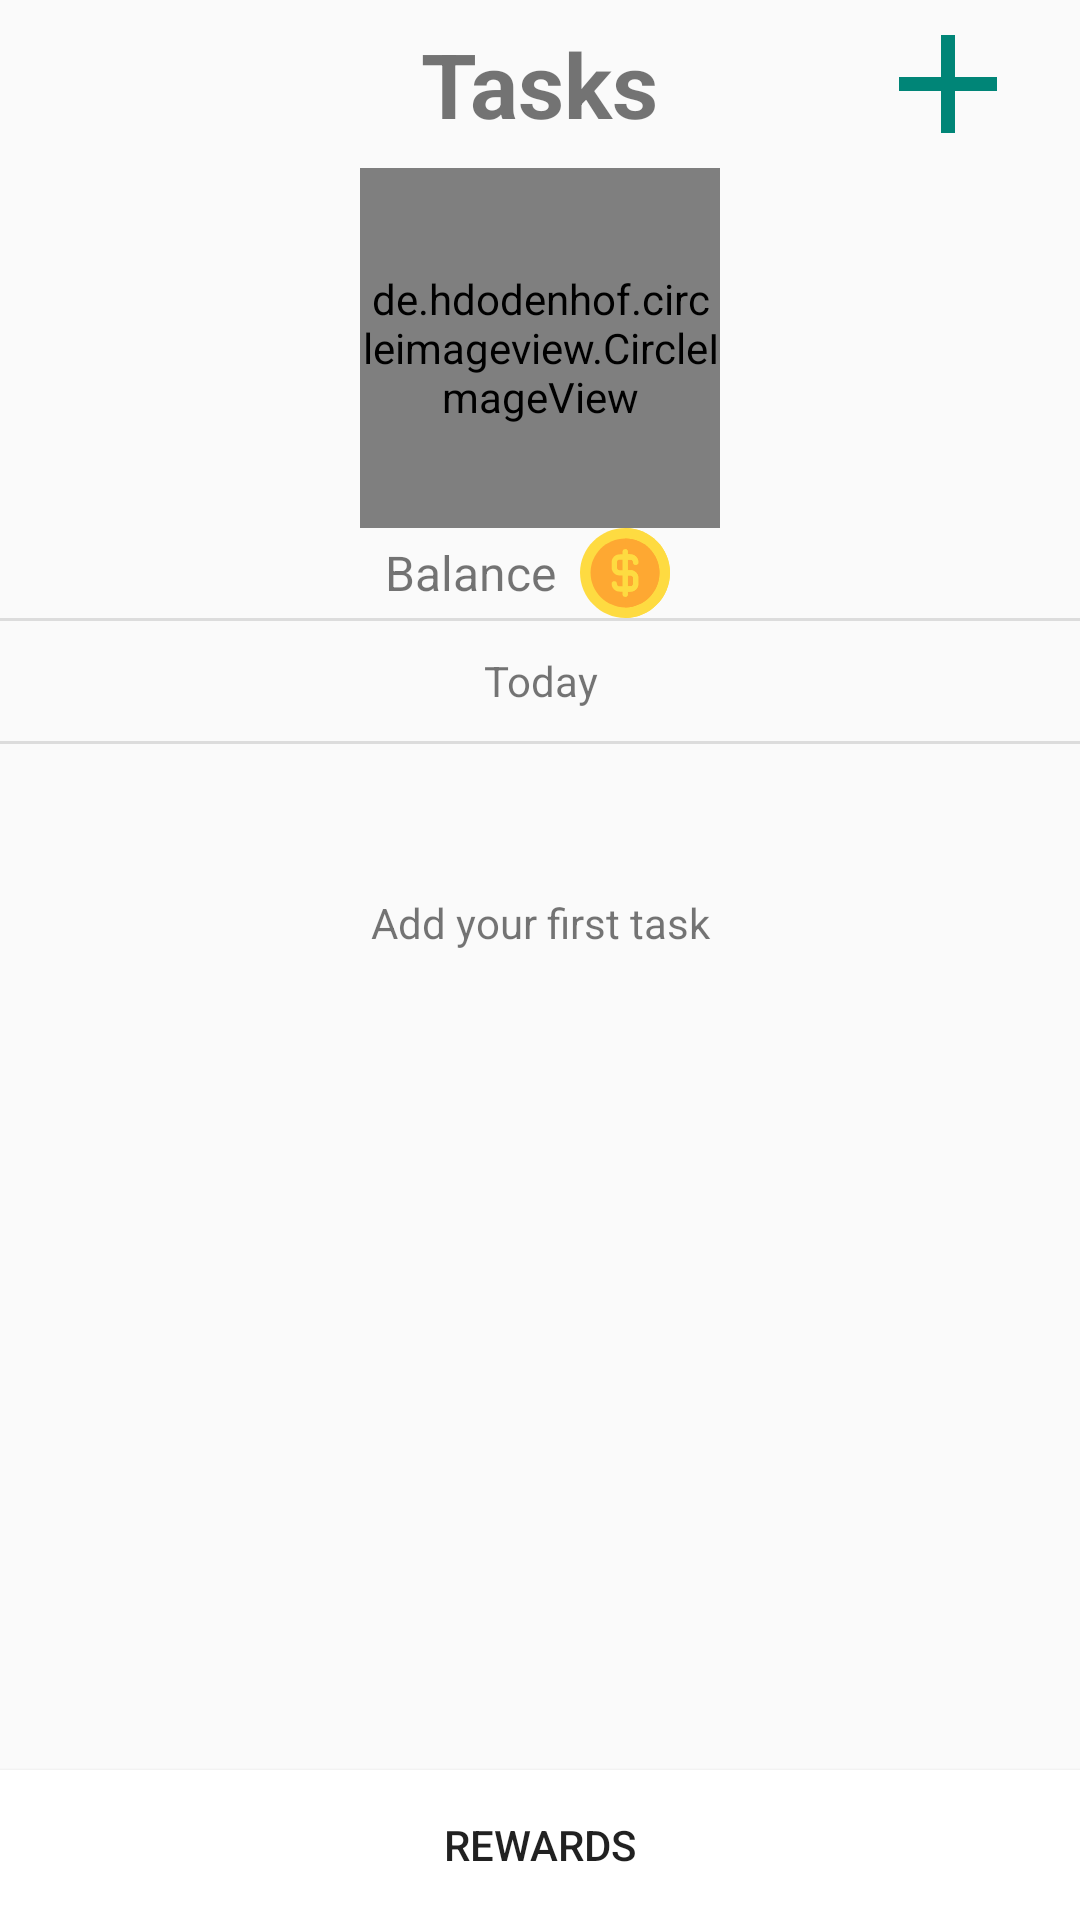

Screen size 1080*1920. Icon name, then its center in pixels as point (x, y):
Add task button: point (948, 84)
